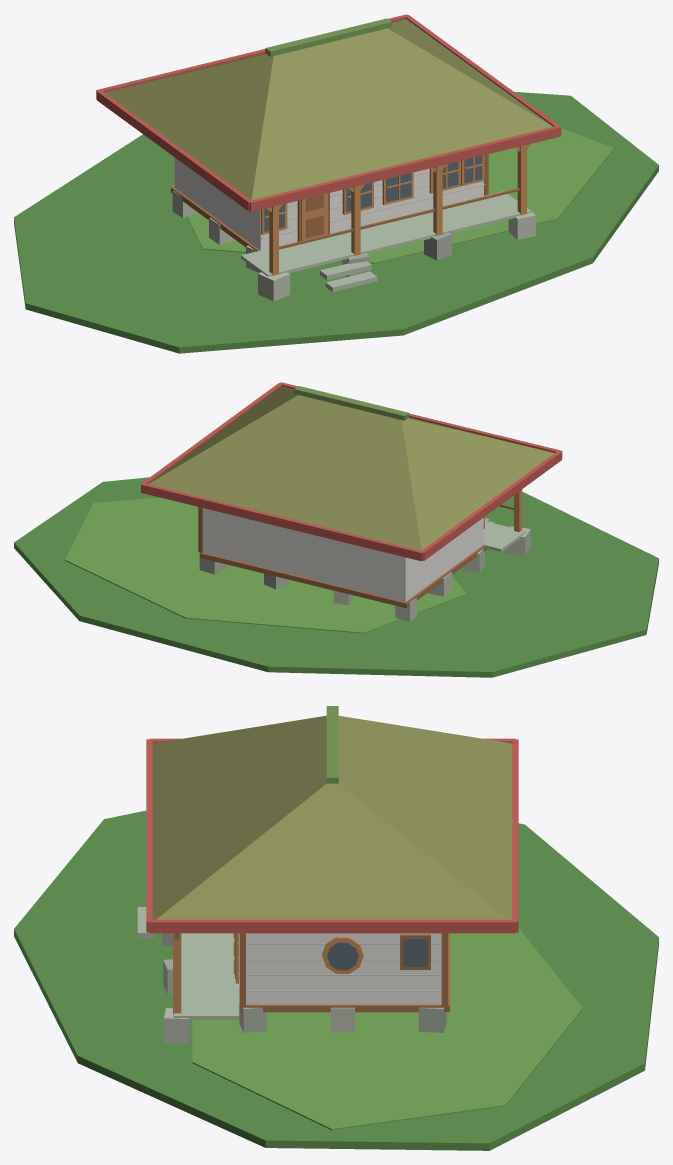
The model's file is Filipino_House_02.fbx.
The picture shows the model from 3 angles, top to bottom: view 1: azimuth 30°, elevation 25°; view 2: azimuth 150°, elevation 25°; view 3: azimuth 270°, elevation 25°; orthographic projection. The views are drawn at different scales.
Visible parts, largest first — view 1: Grass, Roof, Grass2, Deck, Walls, TrimFront, TrimLeft, RidgeCap, TrimRight, TrimBack, PorchRail, PostFooting (+11 smaller); view 2: Grass, Roof, Grass2, Walls, TrimBack, FloorBase, TrimLeft, RidgeCap, Deck, TrimRight, TrimFront; view 3: Roof, Grass, Grass2, Walls, TrimRight, Deck, FloorBase, TrimBack, TrimFront, RidgeCap, PostFooting.003, EndWinGlass (+5 smaller).
Boxes of the visible parts, x1,y1,x2,y2 form: Grass: [14, 91, 658, 353]; Roof: [105, 19, 552, 200]; Grass2: [171, 128, 614, 263]; Deck: [241, 191, 531, 276]; Walls: [174, 157, 483, 250]; TrimFront: [249, 126, 561, 211]; TrimLeft: [96, 91, 252, 211]; RidgeCap: [265, 18, 391, 56]; TrimRight: [405, 15, 560, 127]; TrimBack: [96, 14, 408, 98]; PorchRail: [279, 188, 519, 249]; PostFooting: [258, 272, 290, 301]; Grass: [14, 477, 658, 677]; Roof: [148, 386, 554, 550]; Grass2: [65, 497, 466, 633]; Walls: [203, 508, 483, 601]; TrimBack: [141, 483, 424, 561]; FloorBase: [199, 545, 486, 608]; TrimLeft: [422, 451, 561, 560]; RidgeCap: [294, 386, 408, 420]; Deck: [483, 521, 526, 551]; TrimRight: [141, 383, 282, 483]; TrimFront: [280, 382, 562, 458]; Roof: [152, 715, 512, 919]; Grass: [14, 810, 658, 1150]; Grass2: [192, 928, 582, 1130]; Walls: [239, 933, 441, 1004]; TrimRight: [149, 919, 515, 933]; Deck: [173, 933, 239, 1019]; FloorBase: [239, 933, 449, 1012]; TrimBack: [512, 739, 518, 932]; TrimFront: [146, 739, 152, 932]; RidgeCap: [326, 706, 338, 783]; PostFooting.003: [164, 1008, 190, 1043]; EndWinGlass: [403, 938, 427, 966].
Bounding box in the file's own units: 2505 × 730 × 1868.
